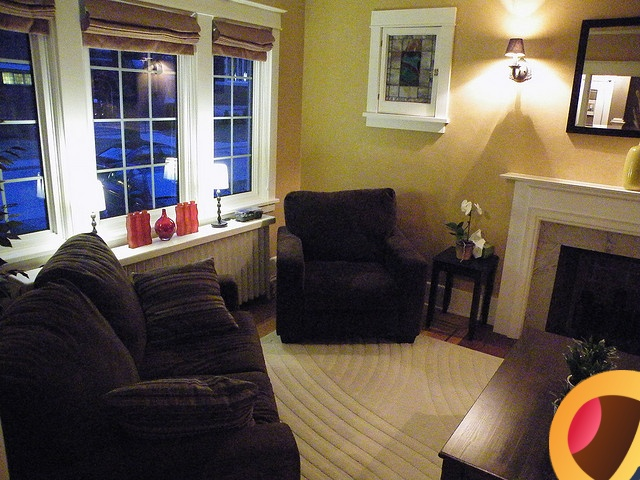haha: (549, 370, 640, 480)
